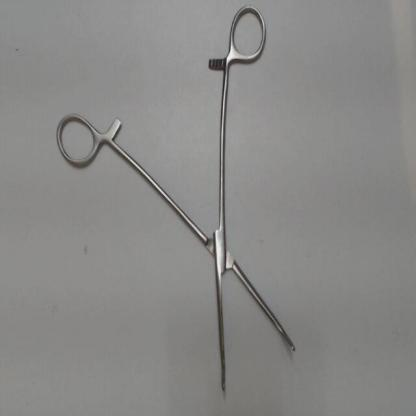Lahey Forceps: (48, 2, 303, 397)
